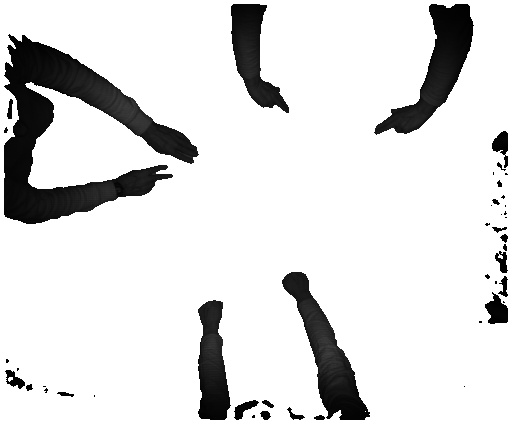fist: (192, 296, 223, 330), (280, 272, 315, 298)
hand: (152, 115, 199, 167), (240, 83, 295, 119), (120, 164, 176, 199), (368, 104, 426, 135)
